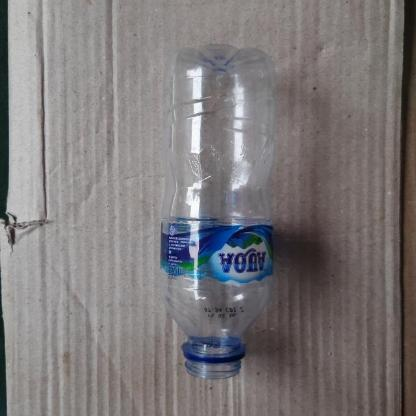Plastic Bottle: (162, 43, 274, 381)
